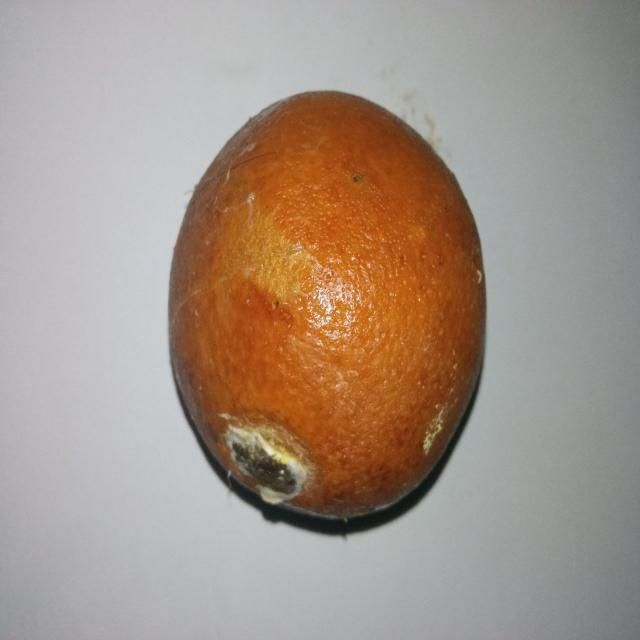rotten_orange: (167, 92, 485, 523)
